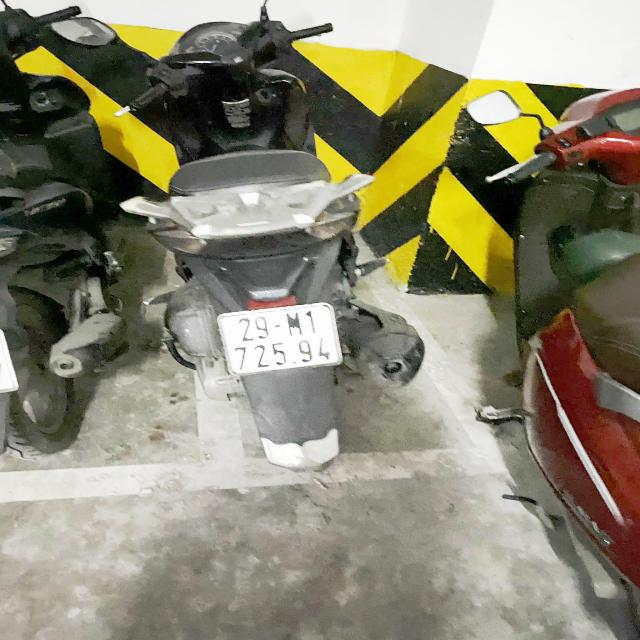license_plate: (216, 302, 350, 380)
